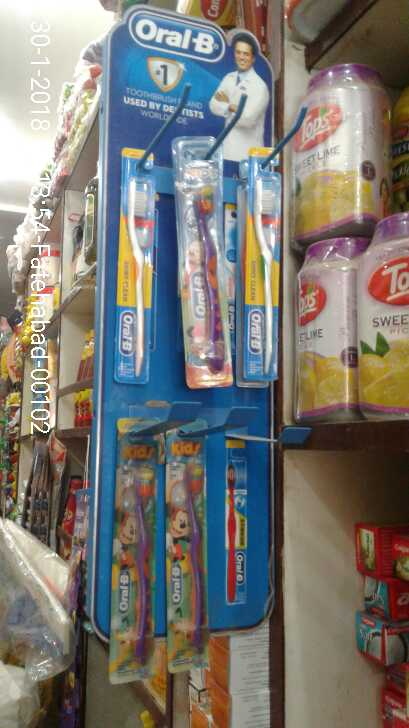oralb: (107, 177, 155, 391), (185, 176, 226, 384), (243, 168, 279, 384)
